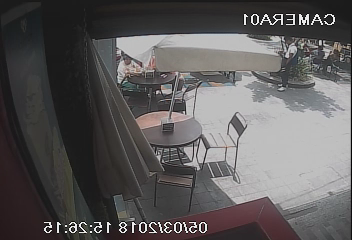libre: (116, 106, 249, 210)
ocupado: (114, 49, 196, 105)
